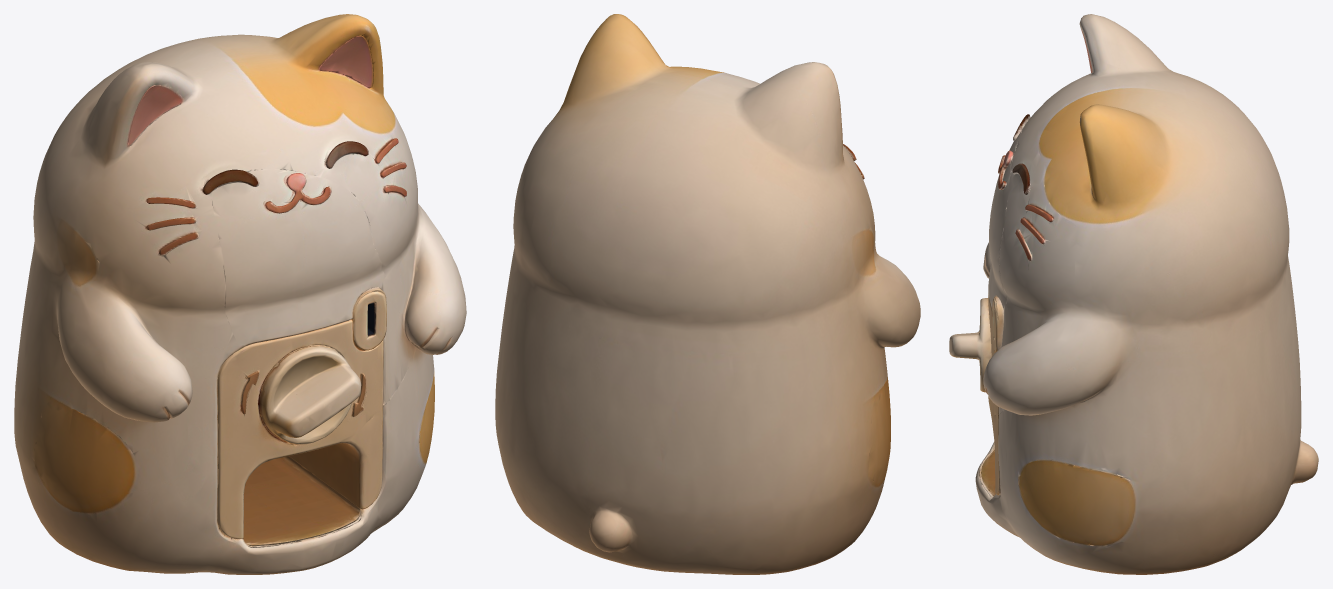
File: gacha-lite.glb
The picture shows the model from 3 angles, left to right: view 1: azimuth 30°, elevation 25°; view 2: azimuth 150°, elevation 25°; view 3: azimuth 270°, elevation 25°; orthographic projection. The views are drawn at different scales.
Size of the model in its own units: 0.7915 by 0.9792 by 0.7375.
1 material, 1 textured.
